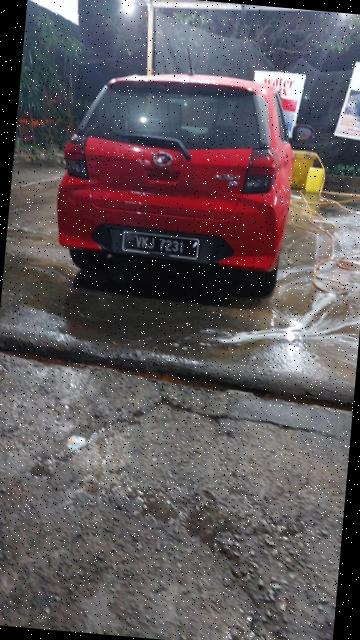License_Plate: (121, 228, 201, 263)
car: (51, 60, 322, 295)
